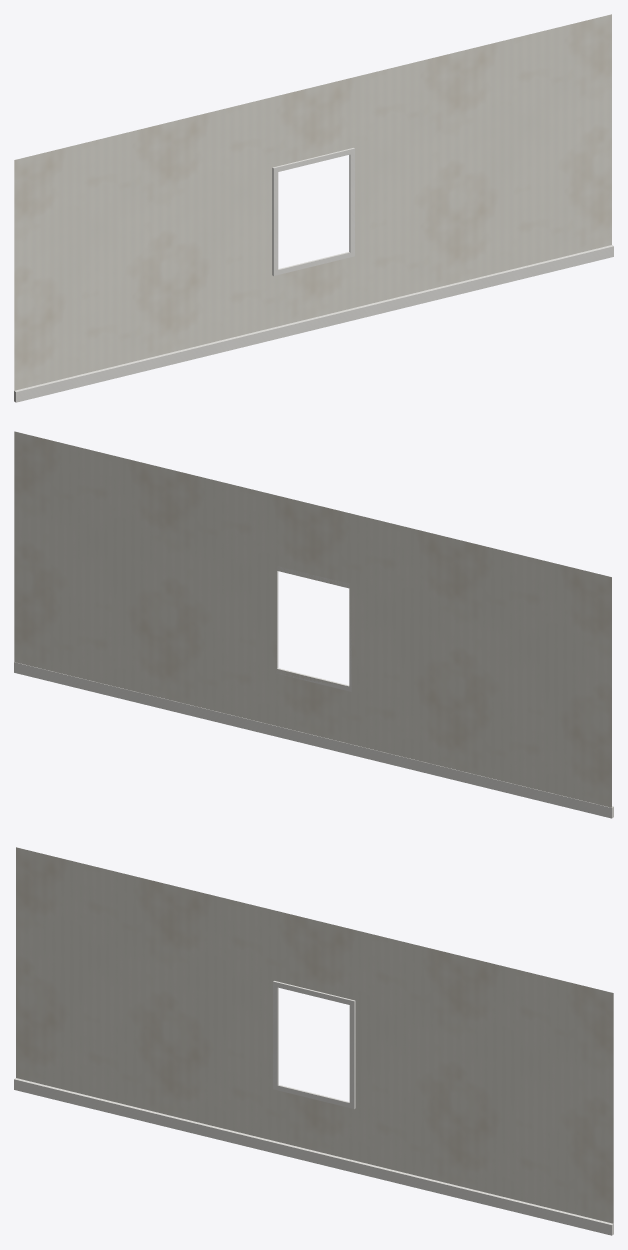
File: wall8_hatch_hi.gltf
3 renders of one model, top to bottom at view 1: azimuth 30°, elevation 25°; view 2: azimuth 150°, elevation 25°; view 3: azimuth 330°, elevation 25°, orthographic.
Parts seen in each view (by area): view 1: jx_w8_hatch_hi; view 2: jx_w8_hatch_hi; view 3: jx_w8_hatch_hi.
Boxes of the visible parts, x1,y1,x2,y2 form: jx_w8_hatch_hi: (14,14,613,402); jx_w8_hatch_hi: (14,431,613,818); jx_w8_hatch_hi: (14,847,613,1235).
Size of the model in its own units: 8.3 by 3.2 by 0.05.
2 materials, 2 textured.
